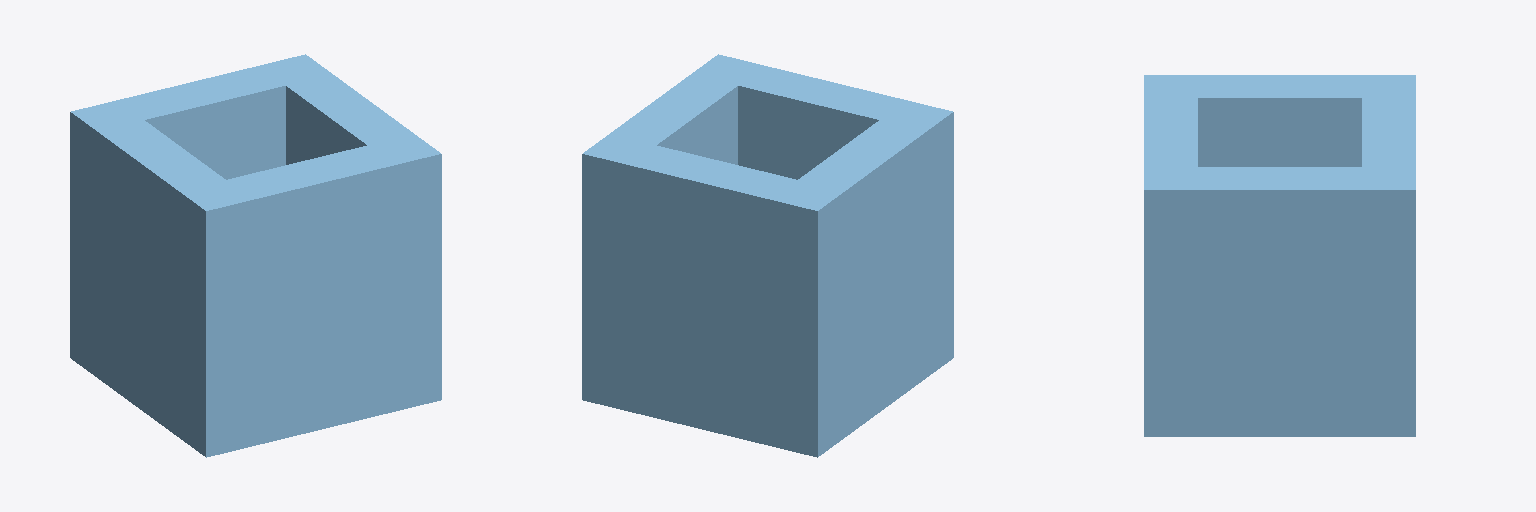
3 views of the same model, side by side, from view 1: azimuth 30°, elevation 25°; view 2: azimuth 150°, elevation 25°; view 3: azimuth 270°, elevation 25° (orthographic).
Bounding box in the file's own units: 5 × 5 × 5.
Materials: 1 (1 with a texture image).